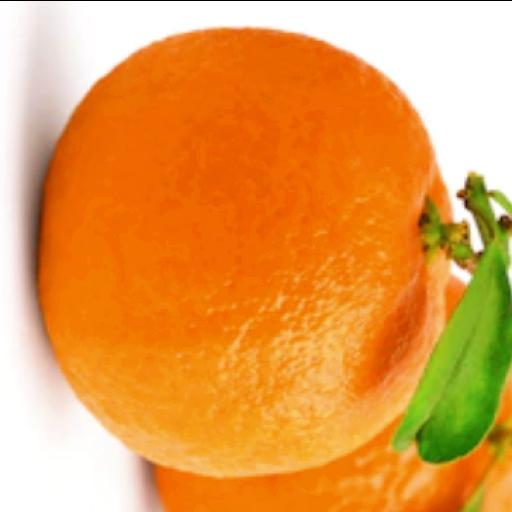orange: (39, 29, 447, 476), (156, 421, 489, 511)
